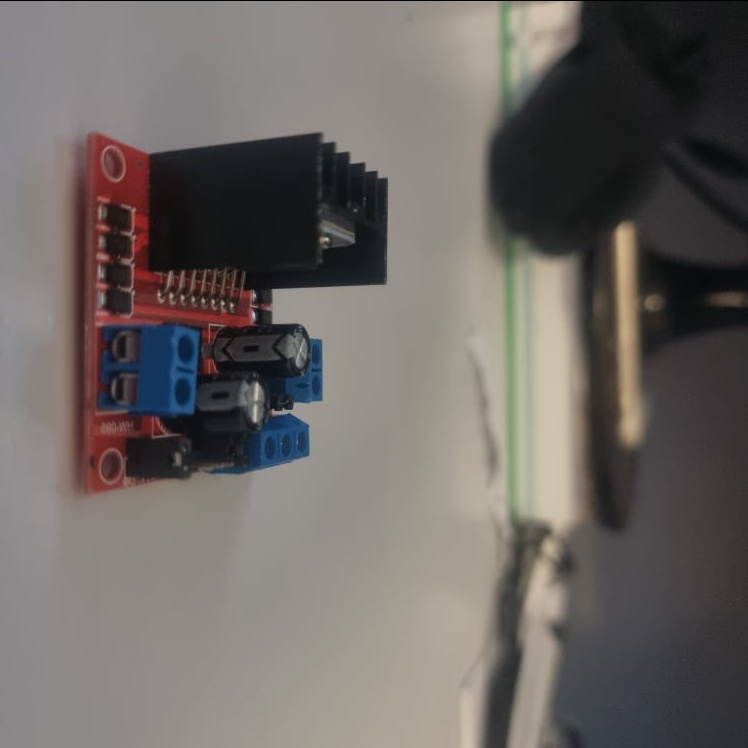MOTOR: (80, 125, 391, 499)
